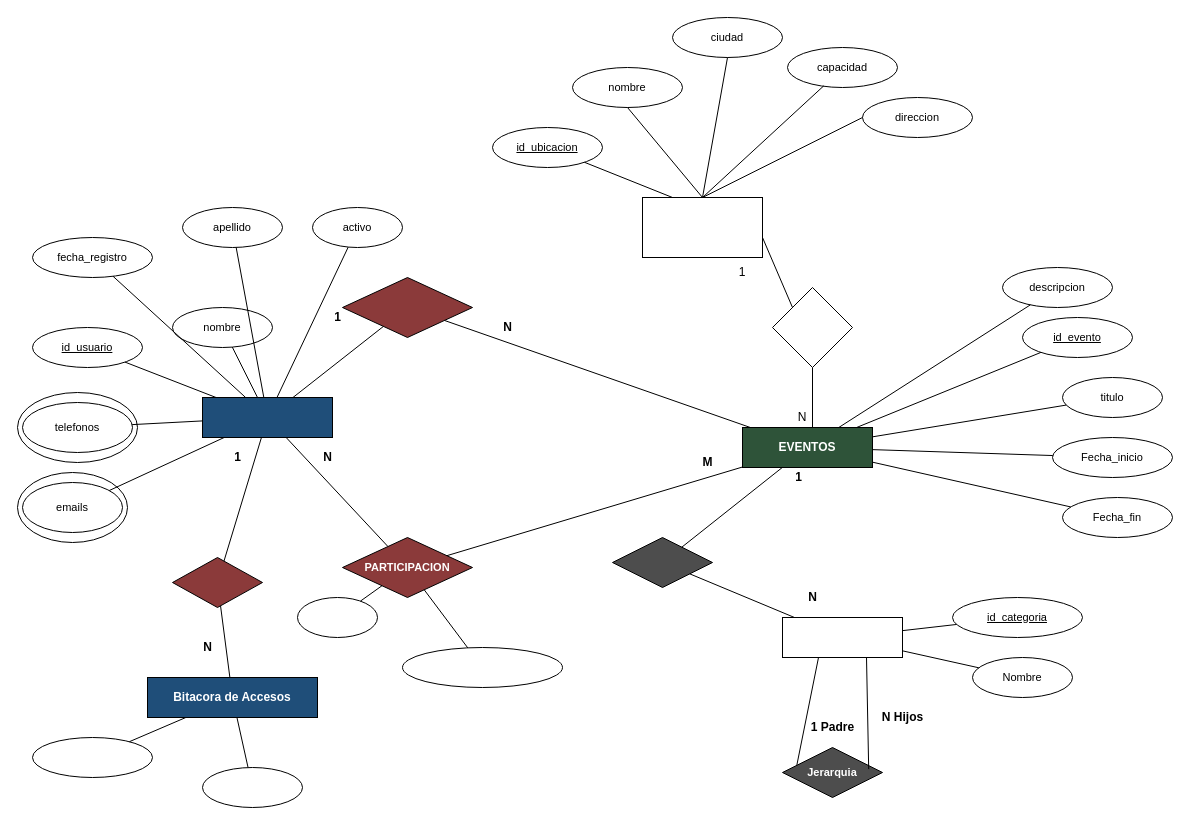
This 1190x825 diagram has some shape labels left out. The shapes that lost their labels are listed below. From the top down, each one's box as (x1, y1, x2, y2) in pixels, then its label:
(642, 196, 762, 258): ubicacion
(342, 276, 472, 338): PROPIETARIO
(772, 286, 852, 368): Contiene
(202, 396, 332, 438): USUARIOS
(172, 556, 262, 608): registra
(612, 536, 712, 588): Pertenece
(296, 596, 378, 638): rol
(782, 616, 902, 658): Categoria
(402, 646, 562, 688): estado_confirmacion
(32, 736, 152, 778): fecha_acceso
(202, 766, 302, 808): id_log
